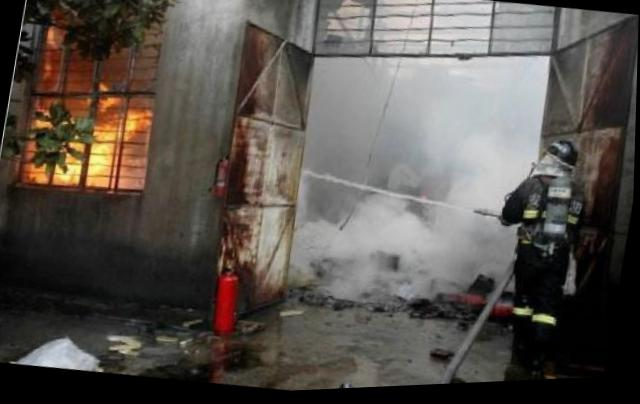fire: (82, 95, 123, 188), (50, 138, 85, 185), (123, 104, 152, 144), (23, 159, 52, 182), (45, 25, 61, 48), (29, 116, 51, 129)
smoke: (308, 54, 544, 174), (289, 204, 513, 309)
